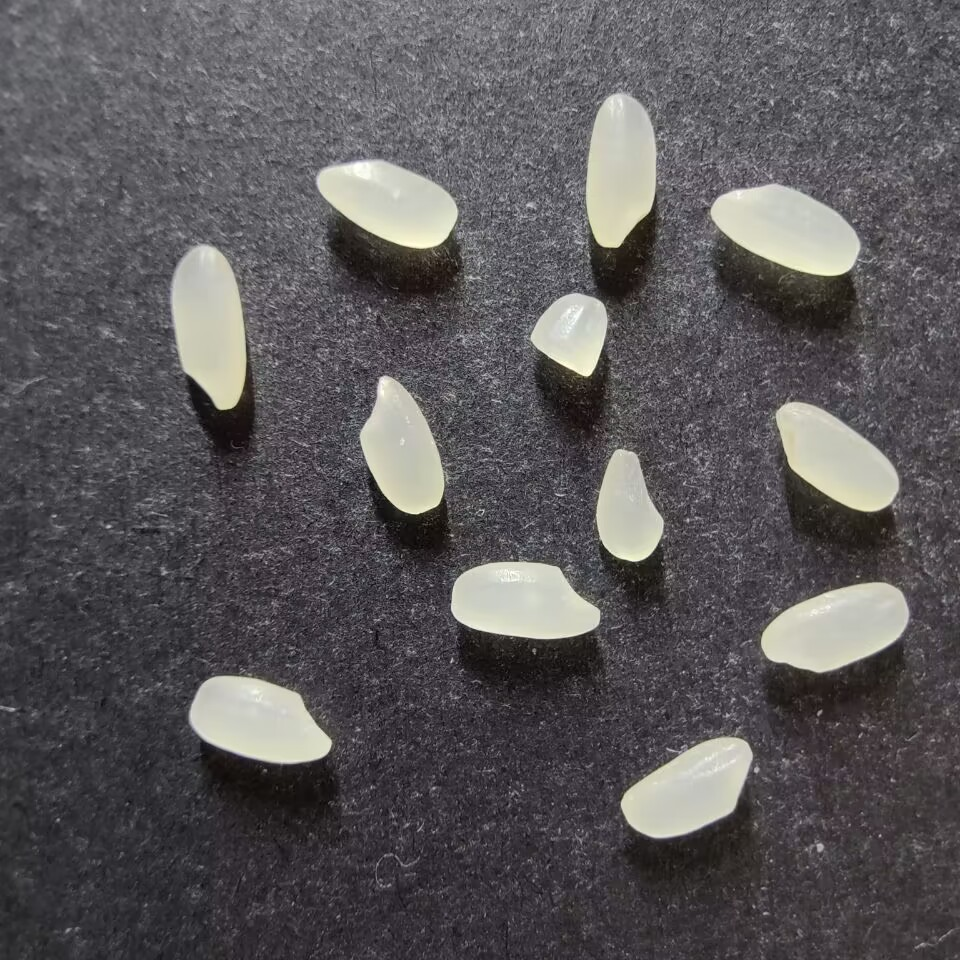broken: (595, 448, 664, 562), (529, 292, 608, 376)
rice: (709, 183, 860, 276), (775, 401, 899, 512), (759, 582, 909, 673), (620, 736, 752, 838), (188, 675, 332, 764), (170, 244, 247, 410), (315, 160, 458, 248), (358, 375, 445, 515), (449, 561, 600, 639), (584, 94, 656, 248)
